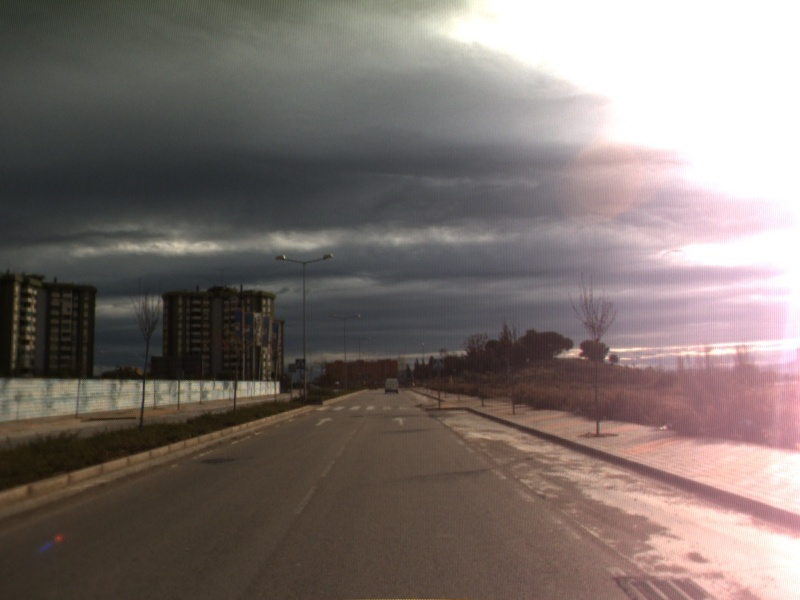STRAIGHT: (313, 415, 336, 428), (391, 414, 410, 427)
